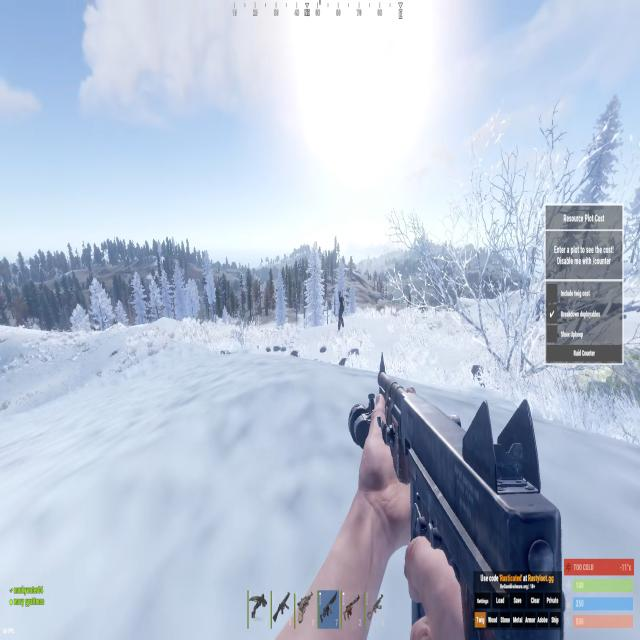Player: (338, 290, 345, 333)
